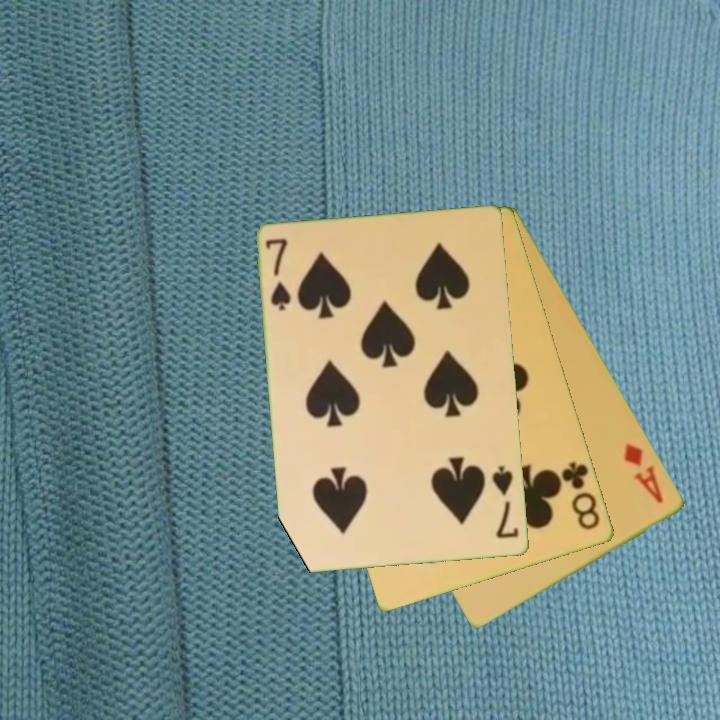7s: (489, 462, 522, 542), (262, 235, 294, 314)
8c: (558, 458, 603, 534)
Ad: (621, 440, 667, 507)
